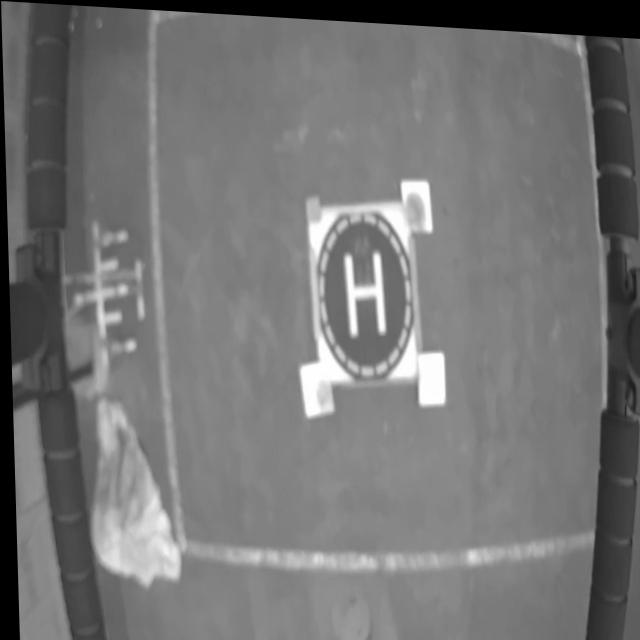Helipad: (341, 243, 384, 332)
